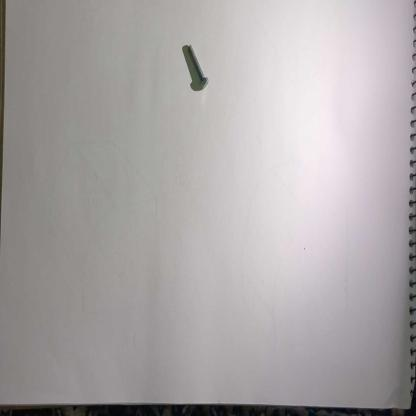Bolts: (182, 40, 212, 93)
